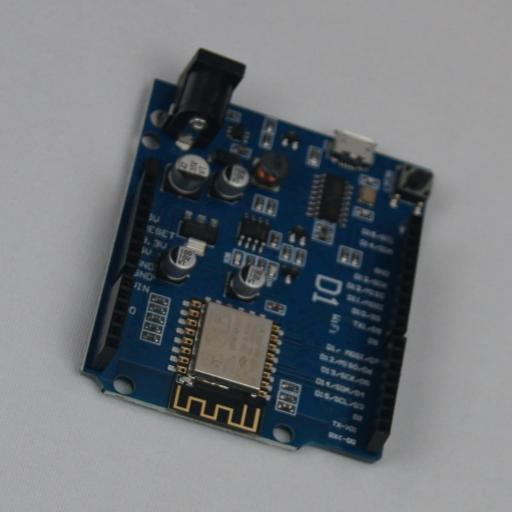Arduino Uno WiFi Shield: (79, 48, 433, 463)
